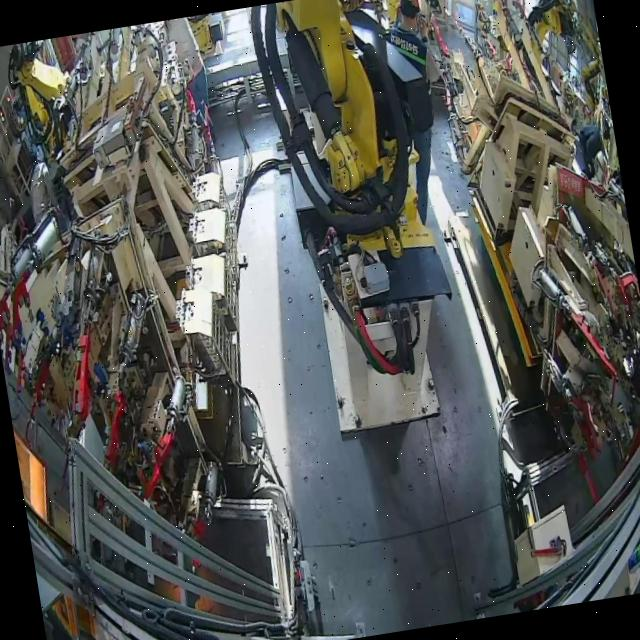Person: (377, 0, 461, 228), (158, 15, 222, 163)
